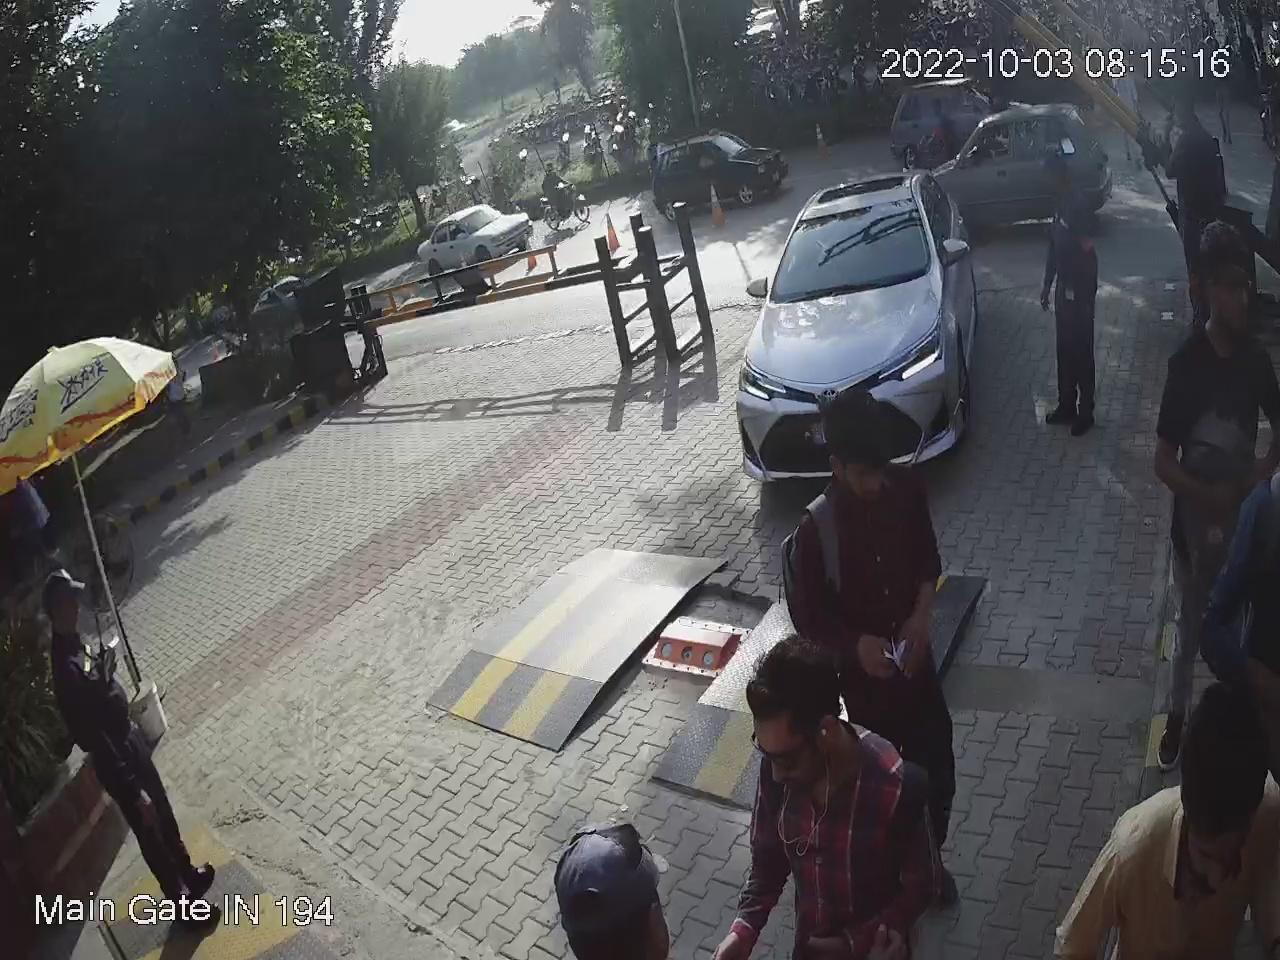windshield: (773, 185, 938, 297)
